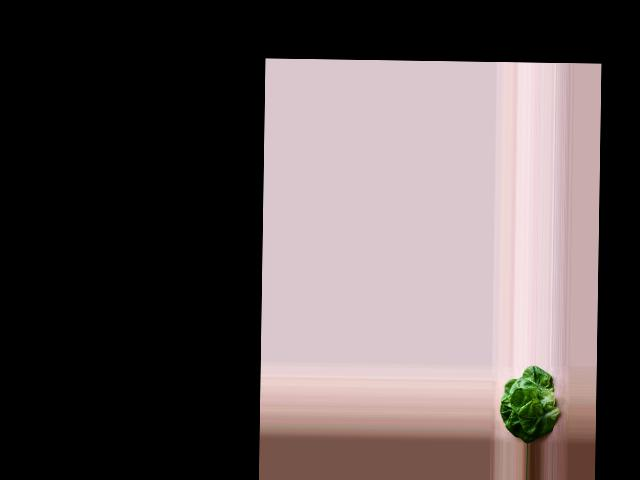lettuce: (499, 367, 558, 442)
